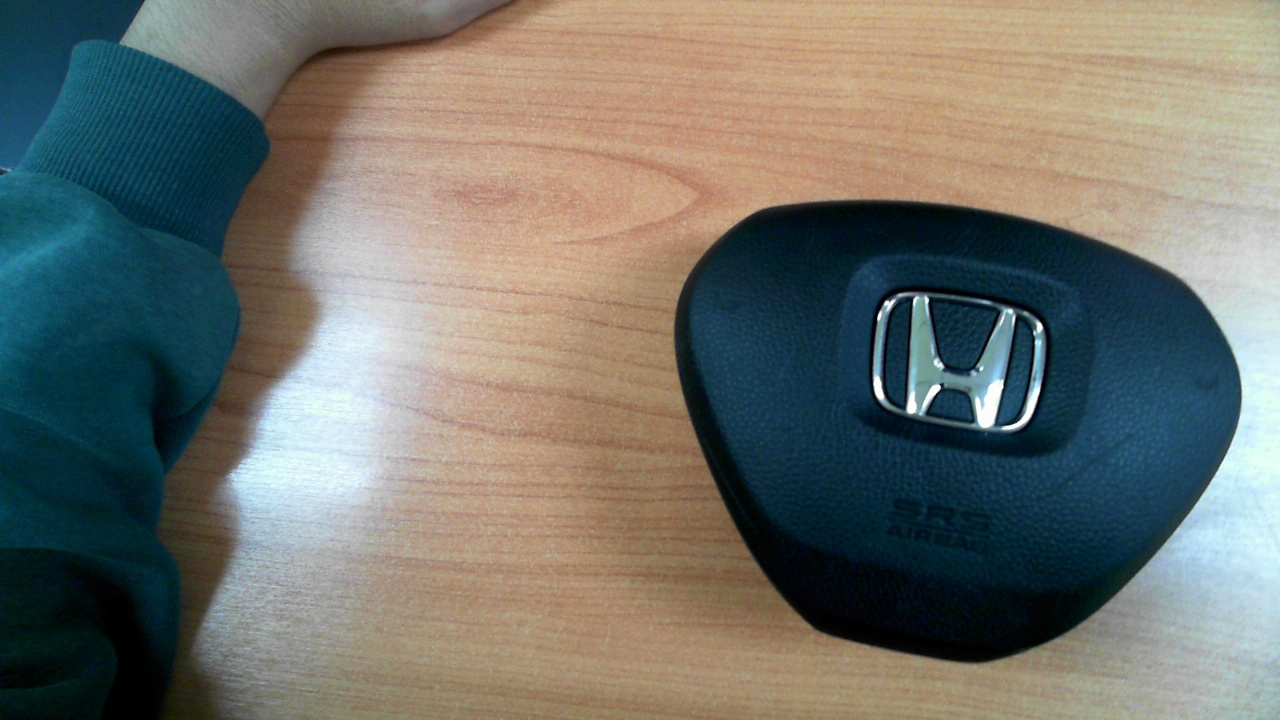Airbag: (674, 200, 1243, 665)
Honda: (871, 290, 1047, 432)
